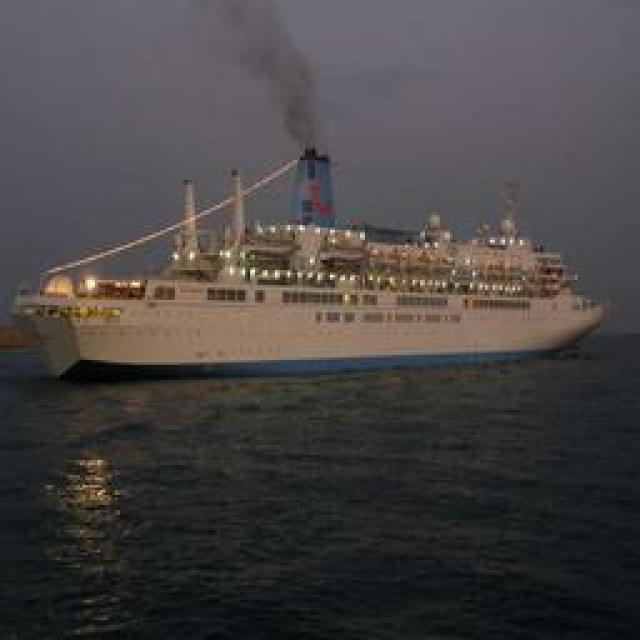Ship: (21, 157, 621, 380)
